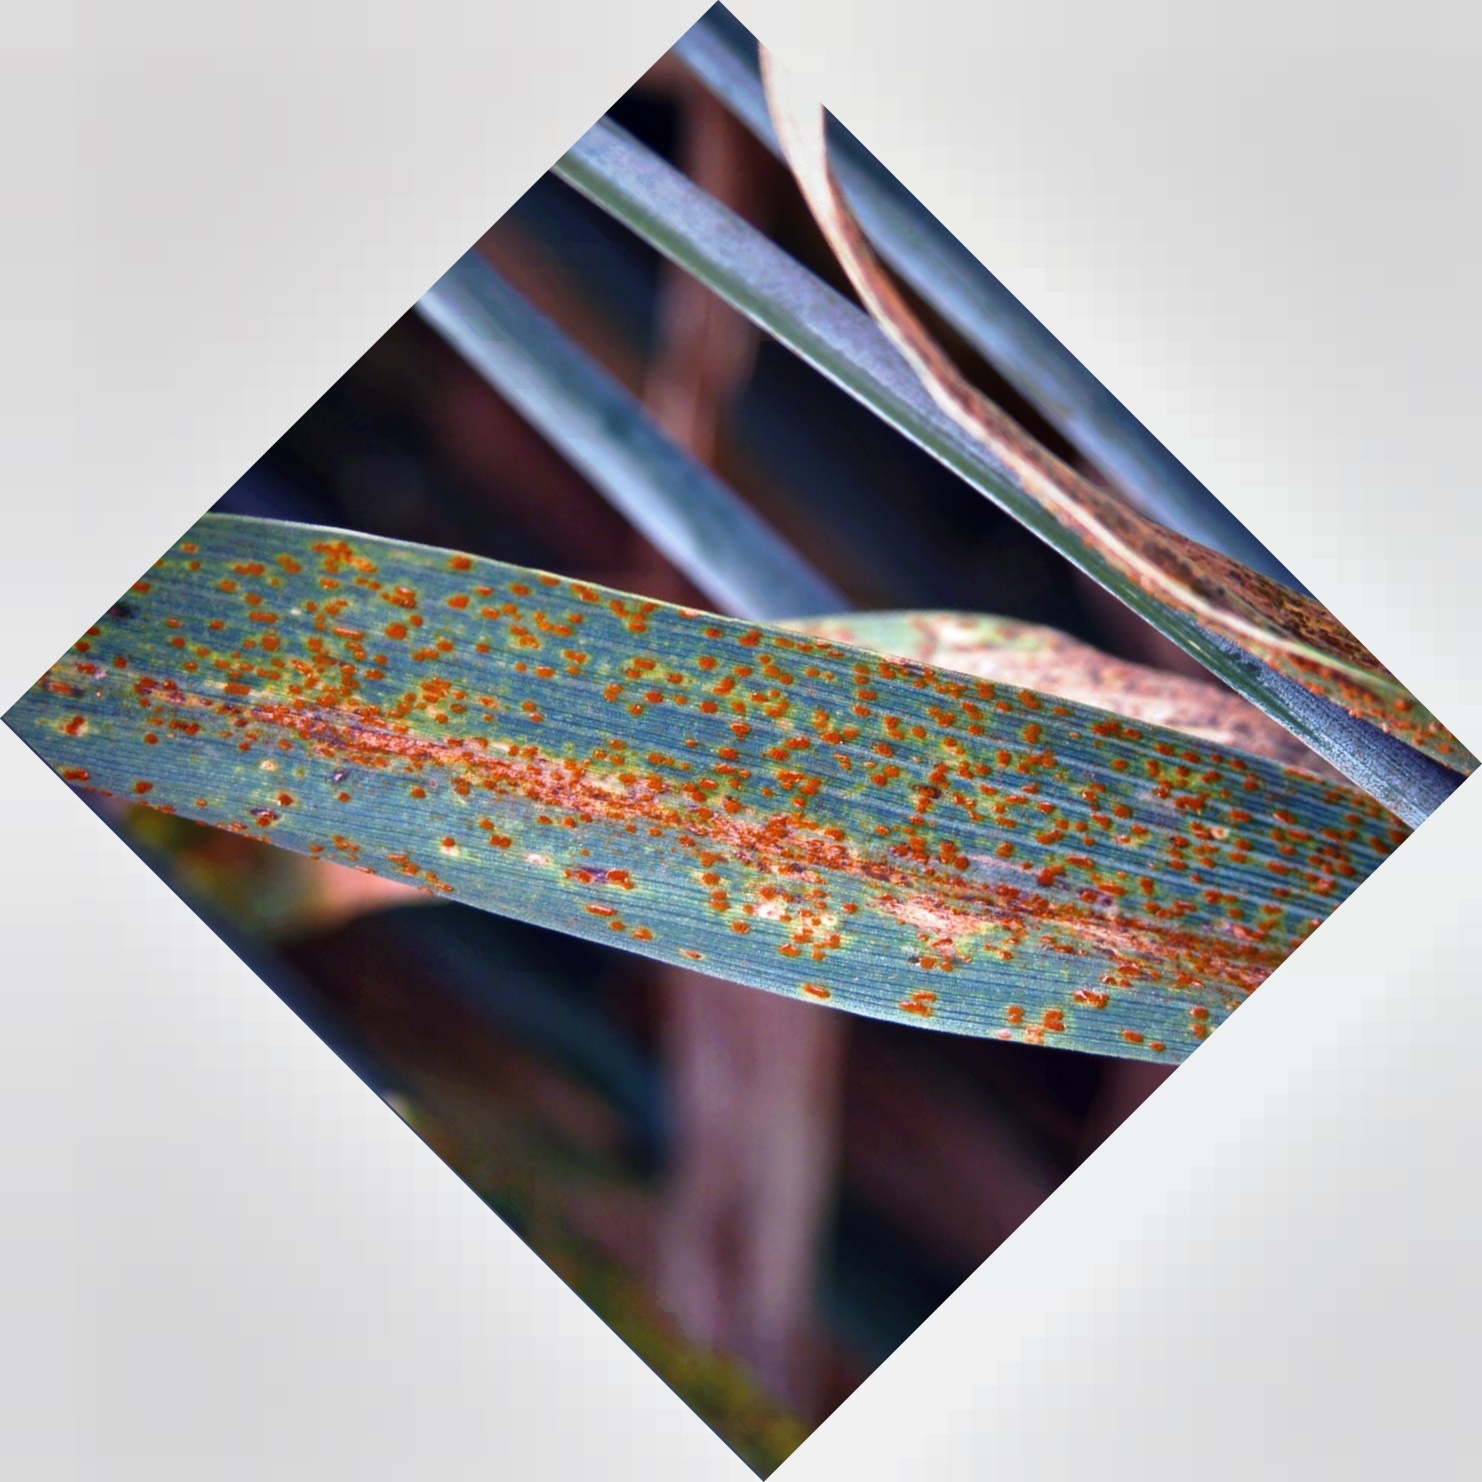Leaf Rust: (166, 513, 1193, 1073)
